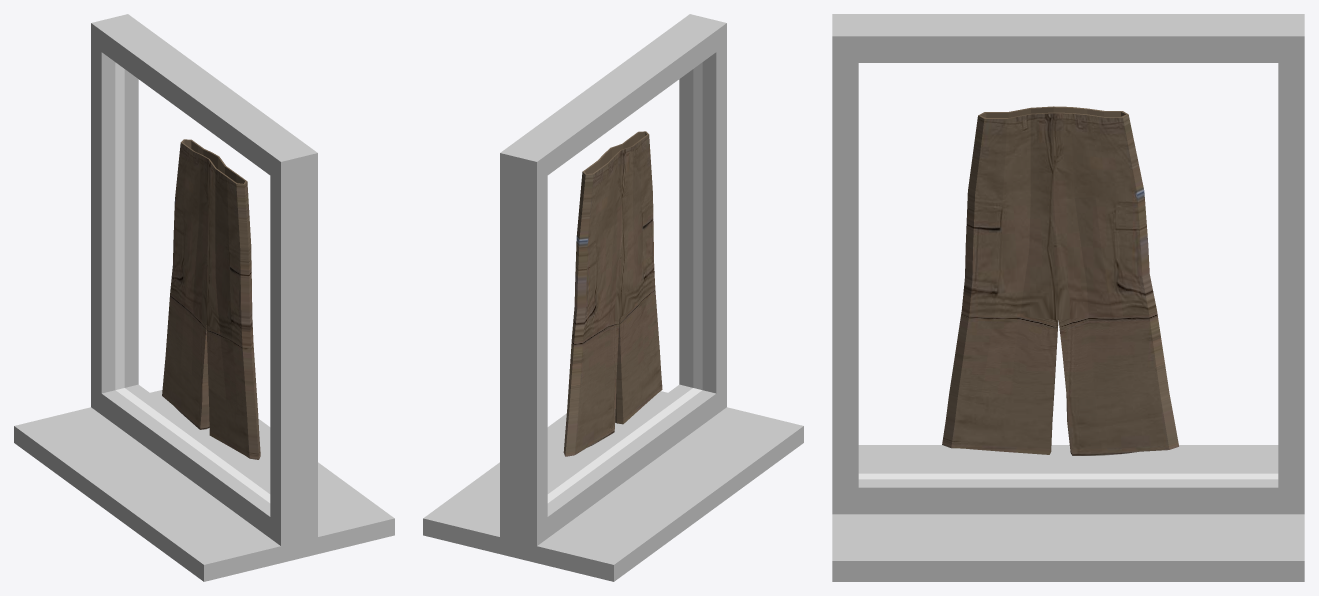
The model's file is cargo_khaki.glb.
The picture shows the model from 3 angles, left to right: view 1: azimuth 30°, elevation 25°; view 2: azimuth 150°, elevation 25°; view 3: azimuth 270°, elevation 25°; orthographic projection. The views are drawn at different scales.
Visible parts, largest first — view 1: Cube.020, Plane.022; view 2: Cube.020, Plane.022; view 3: Cube.020, Plane.022.
Part boxes in pixels (x1,y1,x2,y2): Cube.020: (14, 14, 394, 581); Plane.022: (162, 139, 260, 459); Cube.020: (423, 14, 803, 581); Plane.022: (563, 131, 662, 456); Cube.020: (832, 14, 1304, 581); Plane.022: (942, 106, 1178, 455).
Size of the model in its own units: 0.362 by 0.7276 by 0.6242.
3 materials, 1 textured.
